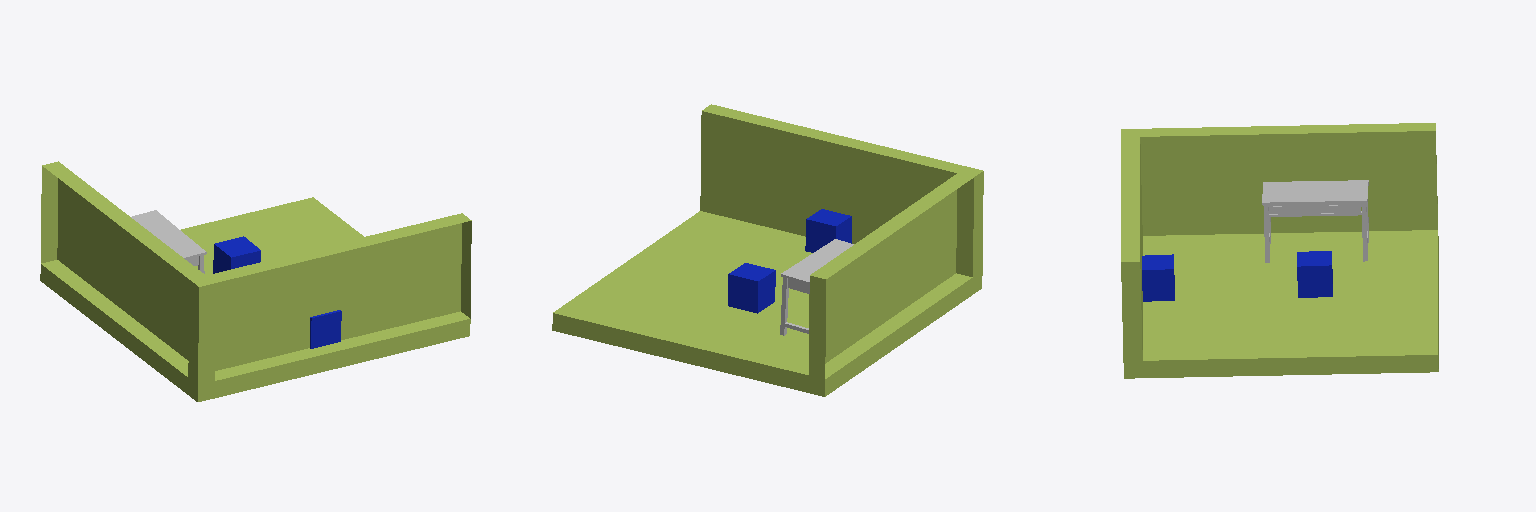
The model's file is roomt.obj.
3 views of the same model, side by side, from view 1: azimuth 30°, elevation 25°; view 2: azimuth 150°, elevation 25°; view 3: azimuth 270°, elevation 25° (orthographic).
Parts seen in each view (by area): view 1: Plane, group_3.001_ID46, Cube, Cube.001; view 2: Plane, Cube, Cube.001, group_3.001_ID46; view 3: Plane, group_3.001_ID46, Cube, Cube.001.
Boxes of the visible parts, <box> form: Plane: <box>40,161,471,401</box>; group_3.001_ID46: <box>131,210,206,259</box>; Cube: <box>213,236,260,273</box>; Cube.001: <box>310,310,341,348</box>; Plane: <box>552,104,983,396</box>; Cube: <box>728,263,775,313</box>; Cube.001: <box>805,209,851,252</box>; group_3.001_ID46: <box>781,239,853,284</box>; Plane: <box>1121,123,1438,378</box>; group_3.001_ID46: <box>1262,180,1368,204</box>; Cube: <box>1297,251,1332,297</box>; Cube.001: <box>1142,254,1174,301</box>.
Size of the model in its own units: 8 by 3.74 by 8.08.